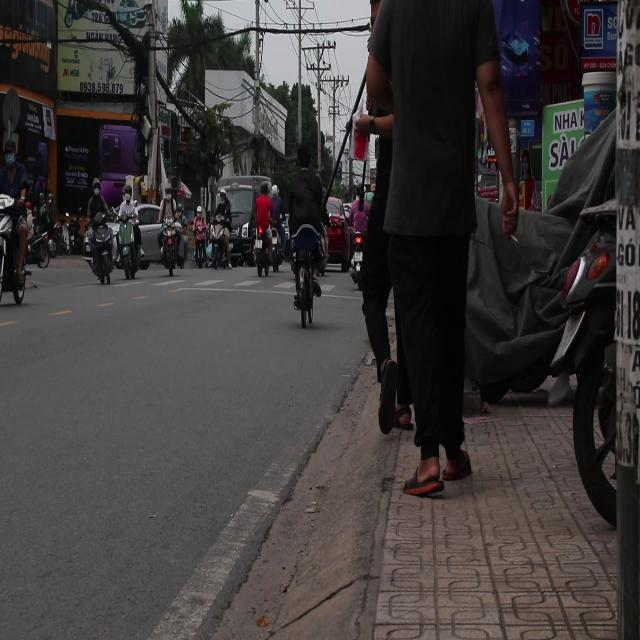car: (136, 205, 168, 268), (324, 196, 350, 270)
motorbike: (0, 189, 30, 304), (86, 213, 121, 284), (156, 216, 186, 273), (29, 222, 54, 269), (54, 215, 80, 256)
truck: (212, 175, 276, 265)
